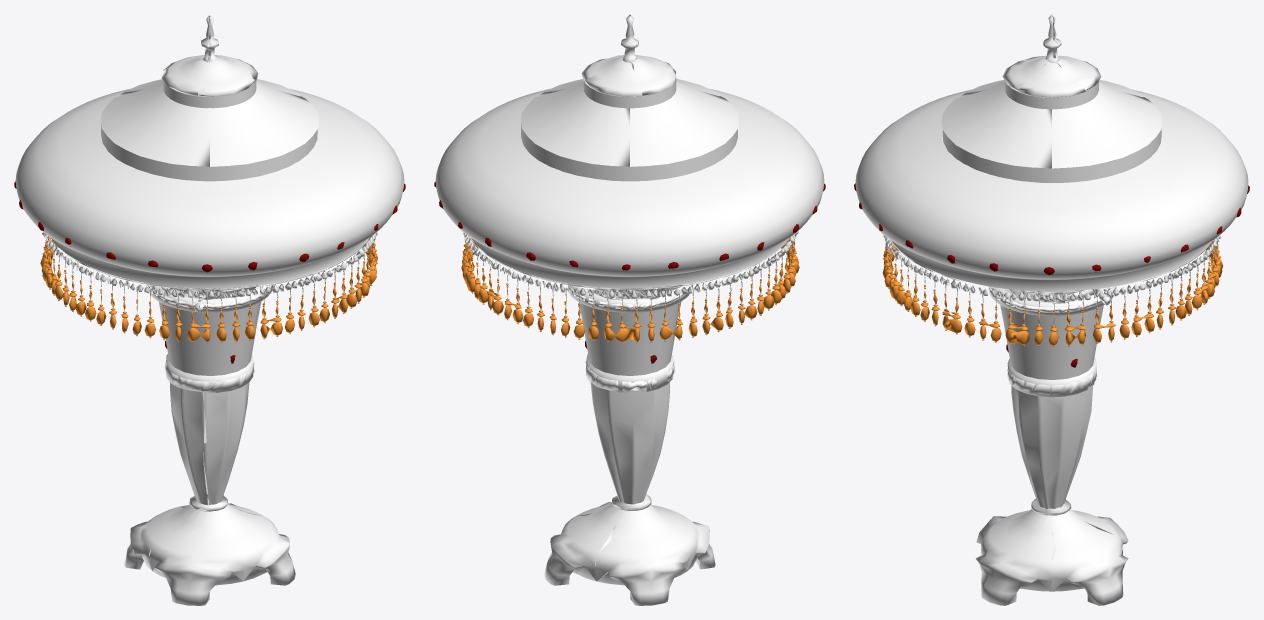
The model's file is M_StainedLamp_LOD1.obj.
3 renders of one model, left to right at view 1: azimuth 30°, elevation 25°; view 2: azimuth 150°, elevation 25°; view 3: azimuth 270°, elevation 25°, orthographic.
Visible parts, largest first — view 1: M_StainedLamp_stainedglass_m6, M_StainedLamp_base_m5, M_StainedLamp_grill_m0, M_StainedLamp_amberbeads_m2, M_StainedLamp_hardware_m4, M_StainedLamp_steel_m1, M_StainedLamp_redgems_m3; view 2: M_StainedLamp_stainedglass_m6, M_StainedLamp_base_m5, M_StainedLamp_grill_m0, M_StainedLamp_amberbeads_m2, M_StainedLamp_hardware_m4, M_StainedLamp_steel_m1, M_StainedLamp_redgems_m3; view 3: M_StainedLamp_stainedglass_m6, M_StainedLamp_base_m5, M_StainedLamp_grill_m0, M_StainedLamp_amberbeads_m2, M_StainedLamp_hardware_m4, M_StainedLamp_steel_m1, M_StainedLamp_redgems_m3.
Boxes of the visible parts, <box> form: M_StainedLamp_stainedglass_m6: <box>15,79,404,375</box>; M_StainedLamp_base_m5: <box>124,283,295,605</box>; M_StainedLamp_grill_m0: <box>101,55,317,181</box>; M_StainedLamp_amberbeads_m2: <box>40,237,377,343</box>; M_StainedLamp_hardware_m4: <box>42,14,377,312</box>; M_StainedLamp_steel_m1: <box>46,239,372,318</box>; M_StainedLamp_redgems_m3: <box>14,181,405,363</box>; M_StainedLamp_stainedglass_m6: <box>435,70,824,375</box>; M_StainedLamp_base_m5: <box>544,283,715,605</box>; M_StainedLamp_grill_m0: <box>521,54,737,181</box>; M_StainedLamp_amberbeads_m2: <box>461,237,799,343</box>; M_StainedLamp_hardware_m4: <box>463,14,798,298</box>; M_StainedLamp_steel_m1: <box>467,237,793,336</box>; M_StainedLamp_redgems_m3: <box>434,181,825,363</box>; M_StainedLamp_stainedglass_m6: <box>855,80,1248,379</box>; M_StainedLamp_base_m5: <box>975,286,1128,605</box>; M_StainedLamp_grill_m0: <box>942,55,1161,182</box>; M_StainedLamp_amberbeads_m2: <box>882,240,1223,347</box>; M_StainedLamp_hardware_m4: <box>883,14,1220,305</box>; M_StainedLamp_steel_m1: <box>886,243,1216,323</box>; M_StainedLamp_redgems_m3: <box>854,183,1249,367</box>.
Bounding box in the file's own units: 0.4399 × 0.6889 × 0.4399.
